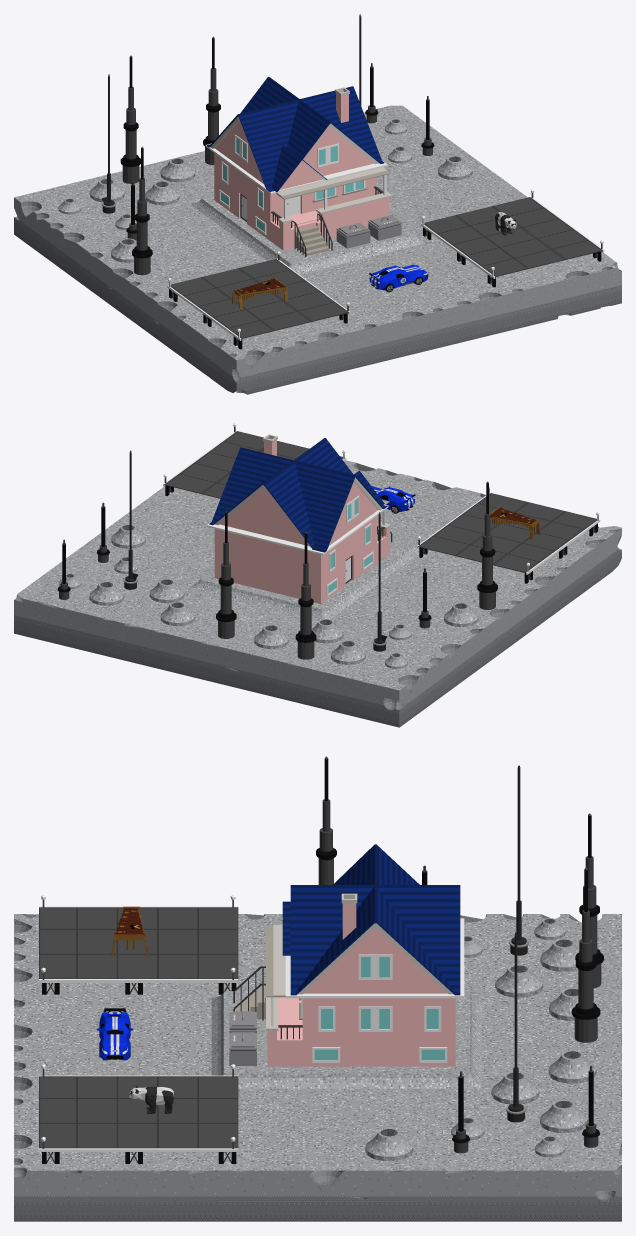
3 renders of one model, top to bottom at view 1: azimuth 30°, elevation 25°; view 2: azimuth 150°, elevation 25°; view 3: azimuth 270°, elevation 25°, orthographic. The views are drawn at different scales.
Visible parts, largest first — view 1: Cube.027, Cube.313, Cube.026, Cube.025, Cube.028, Cylinder.020, Cylinder.021, VEHICLES_RACING_CAR, Cylinder.017, OBJRANDOM_MARIMBA, Cube.029, Cube.030 (+4 smaller); view 2: Cube.027, Cube.313, Cube.025, Cube.028, Cube.026, Cylinder.020, Cylinder.021, Cylinder.017, VEHICLES_RACING_CAR, OBJRANDOM_MARIMBA, Cylinder.031, Cylinder.028 (+8 smaller); view 3: Cube.027, Cube.313, Cube.026, Cube.025, Cube.028, Cylinder.017, VEHICLES_RACING_CAR, Cylinder.020, Cylinder.021, Cylinder.033, Cylinder.031, Cylinder.029 (+11 smaller).
Boxes of the visible parts, x1,y1,x2,y2 form: Cube.027: (14, 105, 621, 394); Cube.313: (205, 76, 392, 256); Cube.026: (421, 189, 604, 287); Cube.025: (167, 251, 350, 349); Cube.028: (191, 195, 424, 274); Cylinder.020: (120, 55, 140, 183); Cylinder.021: (132, 146, 152, 275); VEHICLES_RACING_CAR: (369, 264, 428, 292); Cylinder.017: (203, 36, 220, 164); OBJRANDOM_MARIMBA: (232, 277, 287, 309); Cube.029: (336, 222, 370, 248); Cube.030: (368, 215, 401, 240); Cube.027: (14, 460, 621, 727); Cube.313: (206, 434, 392, 603); Cube.025: (417, 485, 600, 583); Cube.028: (190, 538, 419, 620); Cube.026: (163, 423, 346, 498); Cylinder.020: (295, 531, 316, 659); Cylinder.021: (477, 481, 497, 609); Cylinder.017: (216, 510, 236, 638); VEHICLES_RACING_CAR: (371, 486, 415, 513); OBJRANDOM_MARIMBA: (490, 507, 540, 539); Cylinder.031: (89, 581, 124, 605); Cylinder.028: (331, 640, 365, 664); Cube.027: (14, 914, 621, 1221); Cube.313: (233, 844, 464, 1066); Cube.026: (39, 1064, 238, 1163); Cube.025: (39, 895, 238, 994); Cube.028: (211, 991, 481, 1088); Cylinder.017: (571, 867, 600, 1042); VEHICLES_RACING_CAR: (96, 1008, 132, 1060); Cylinder.020: (575, 813, 603, 988); Cylinder.021: (316, 756, 336, 884); Cylinder.033: (365, 1128, 413, 1160); Cylinder.031: (540, 1100, 587, 1132); Cylinder.029: (548, 1050, 596, 1083).
Size of the model in its own units: 4000 by 1807 by 4000.
35 materials, 4 textured.
